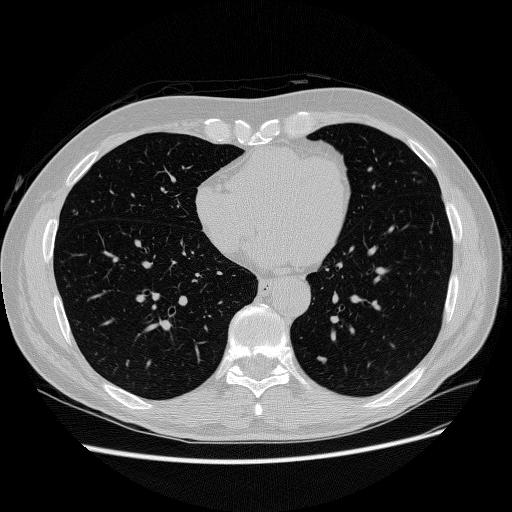nodule: (316, 353, 328, 365)
